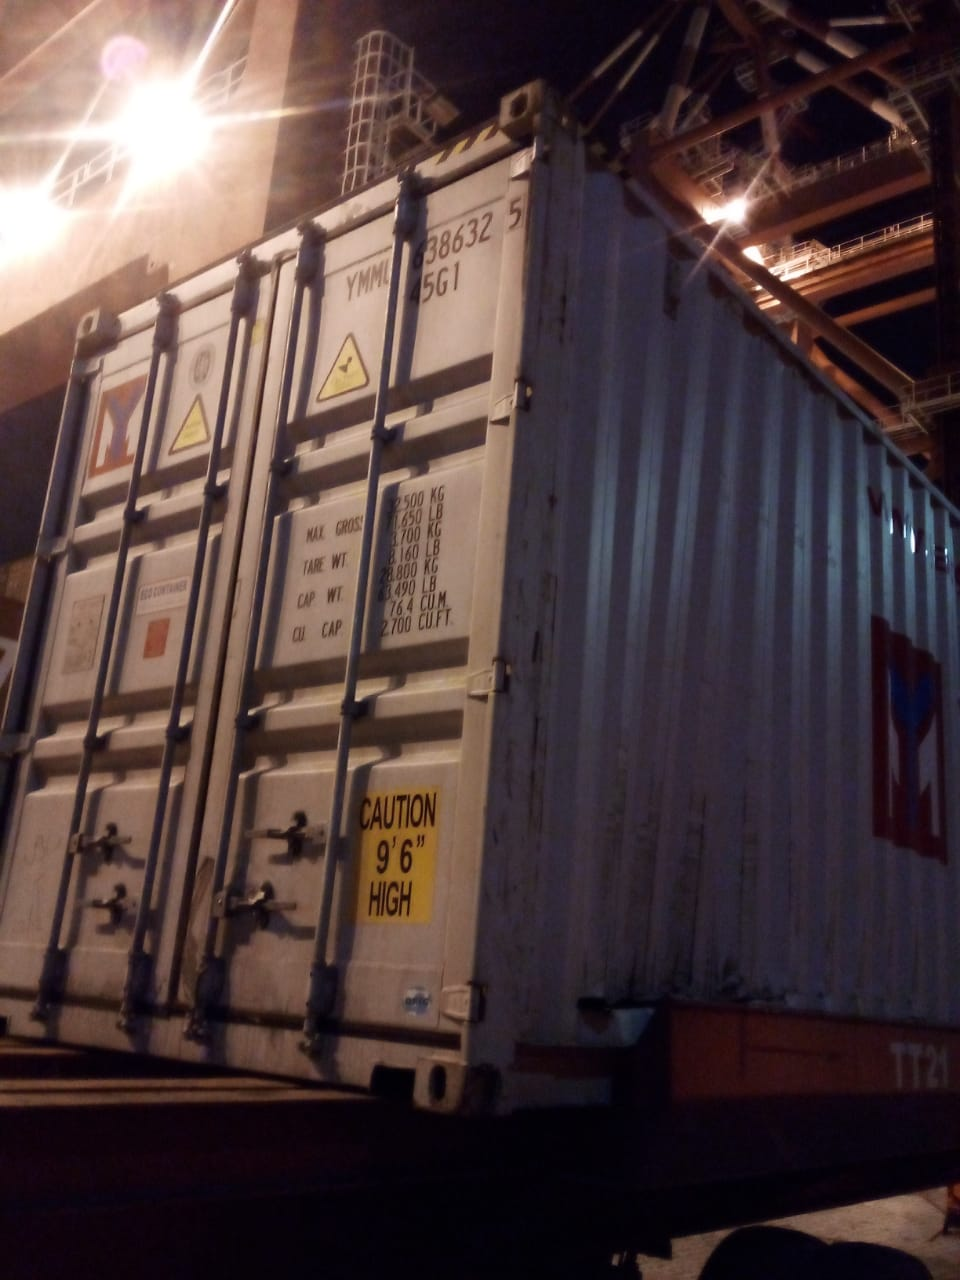moderate: (591, 900, 889, 1041)
